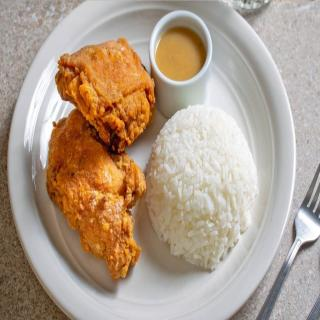carbs: (152, 109, 256, 264)
fried_chicken_rice: (38, 18, 268, 292)
meat: (47, 118, 146, 280), (58, 42, 152, 142)
